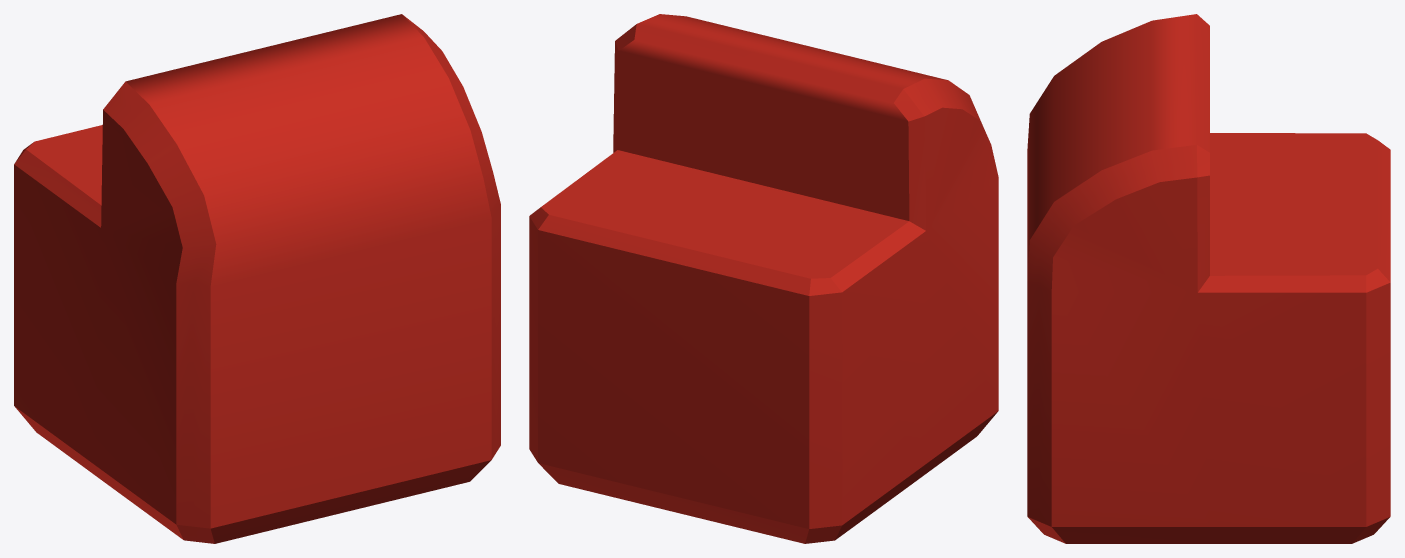
Rendered from armdown.obj.
3 renders of one model, left to right at view 1: azimuth 30°, elevation 25°; view 2: azimuth 150°, elevation 25°; view 3: azimuth 270°, elevation 25°, orthographic. The views are drawn at different scales.
Visible parts, largest first — view 1: Onett11; view 2: Onett11; view 3: Onett11.
Boxes of the visible parts, x1=… form: Onett11: x1=14, y1=14, x2=500, y2=543; Onett11: x1=529, y1=14, x2=998, y2=543; Onett11: x1=1027, y1=14, x2=1390, y2=543.
Bounding box in the file's own units: 1 × 1.2 × 1.
1 material, 1 textured.
